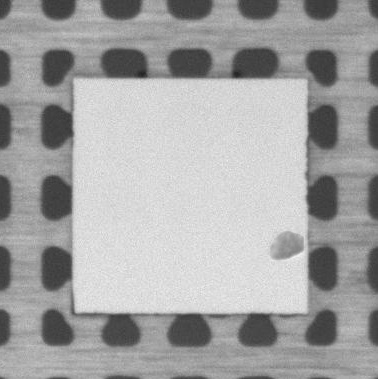DIE_INK: (270, 230, 306, 261)
